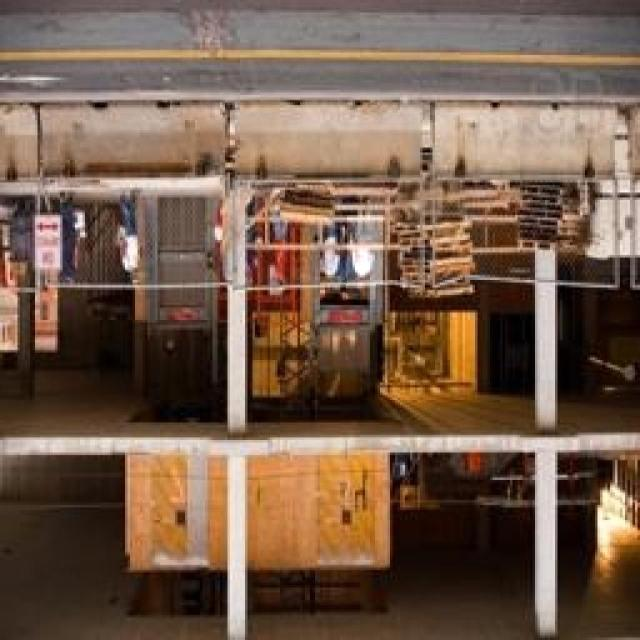Helmet: (347, 215, 383, 284), (115, 211, 154, 271), (314, 228, 342, 276), (346, 262, 376, 300), (122, 264, 149, 294), (320, 268, 340, 294)
